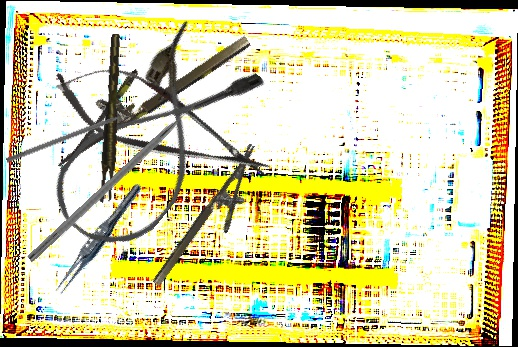Cannula: (38, 16, 270, 267)
Hook Surgical: (26, 96, 207, 265), (5, 106, 140, 165)
Micro Scissor: (41, 42, 284, 205)
Needle Holder: (37, 9, 253, 172), (150, 143, 278, 300)
Tissue Forceps: (50, 178, 146, 301), (94, 33, 129, 204)
